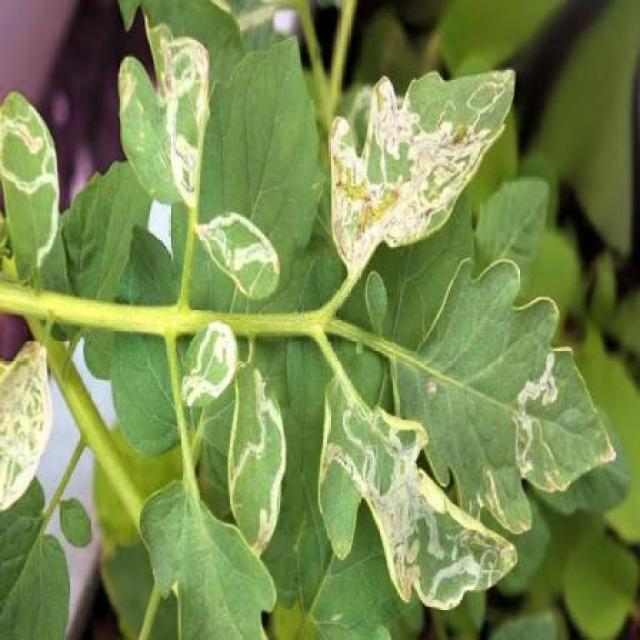Leaf Miner: (392, 259, 619, 534), (318, 369, 518, 614), (328, 57, 518, 277), (118, 20, 213, 213), (226, 362, 288, 557), (0, 87, 60, 283), (0, 334, 51, 514), (195, 203, 281, 304), (180, 316, 240, 408)
